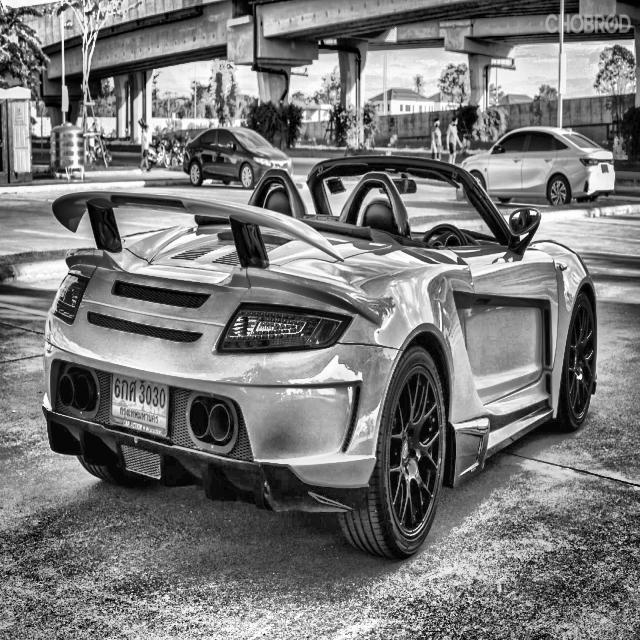license-plate: (109, 371, 172, 442)
